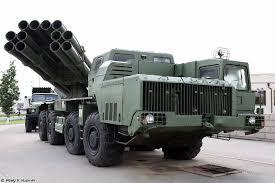MIL_SAM_TEL: (0, 15, 268, 166), (22, 86, 58, 134)
